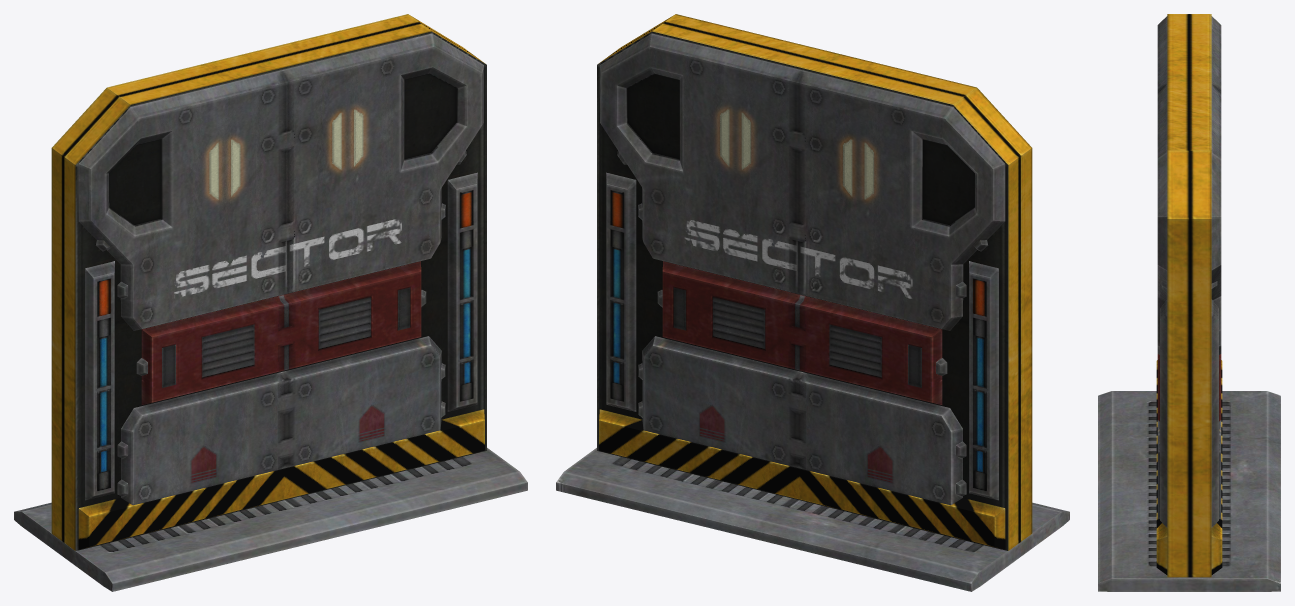
The model's file is Door.fbx.
3 renders of one model, left to right at view 1: azimuth 30°, elevation 25°; view 2: azimuth 150°, elevation 25°; view 3: azimuth 270°, elevation 25°, orthographic. The views are drawn at different scales.
Visible parts, largest first — view 1: door, base; view 2: door, base; view 3: door, base.
Part boxes in pixels (x1,y1,x2,y2): door: (51,14,486,550); base: (14,448,527,591); door: (597,14,1032,550); base: (556,448,1069,591); door: (1156,14,1222,577); base: (1098,391,1280,591).
Bounding box in the file's own units: 495 × 202 × 506.
1 material, 1 textured.
